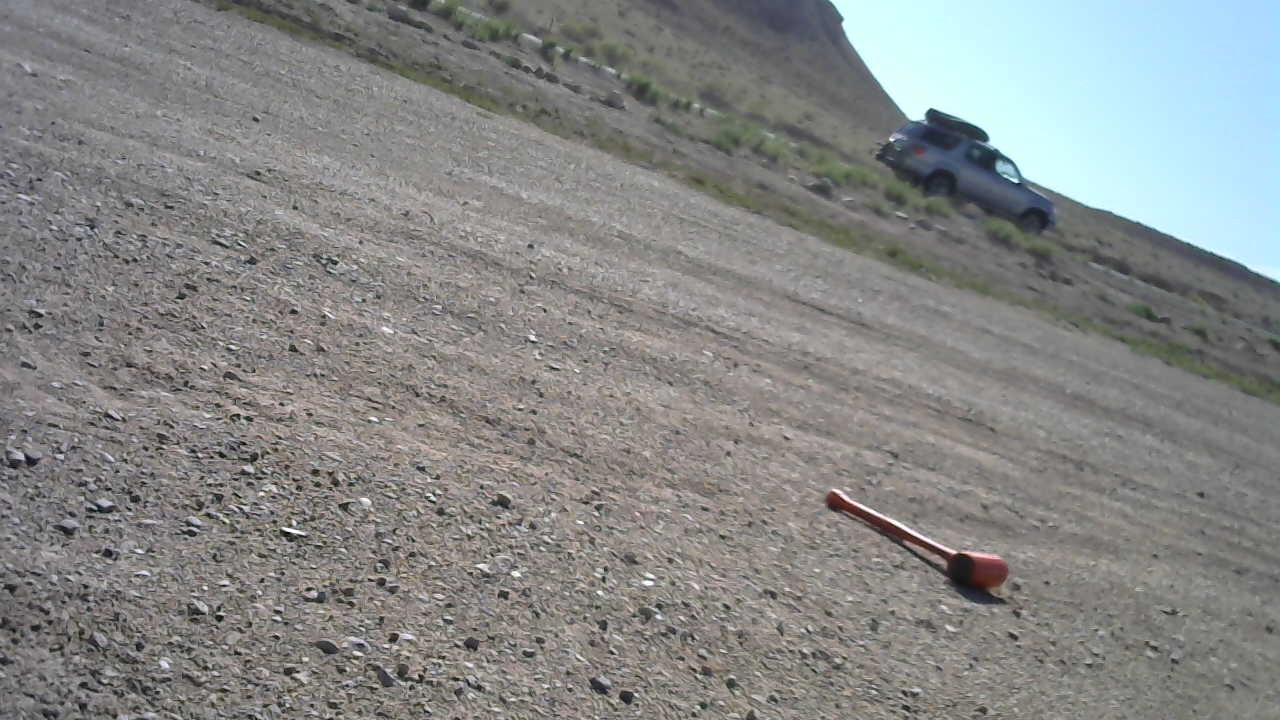hammer: (822, 483, 1010, 594)
